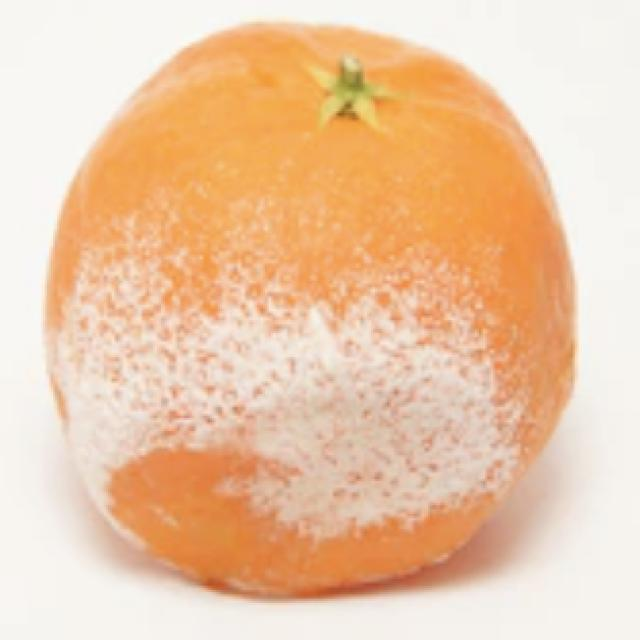sedikit-busuk: (45, 24, 574, 594), (57, 186, 530, 538)
